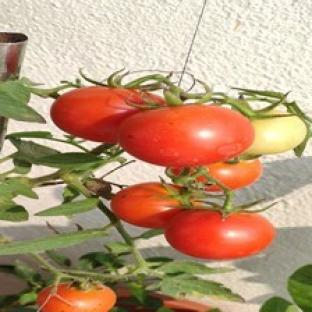Tomato: (119, 105, 253, 167), (51, 87, 164, 143), (165, 209, 275, 259), (111, 183, 182, 228), (244, 111, 306, 155), (37, 283, 116, 311), (204, 159, 263, 189)
